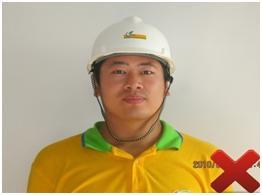helmet: (85, 16, 176, 74), (243, 150, 262, 167)
